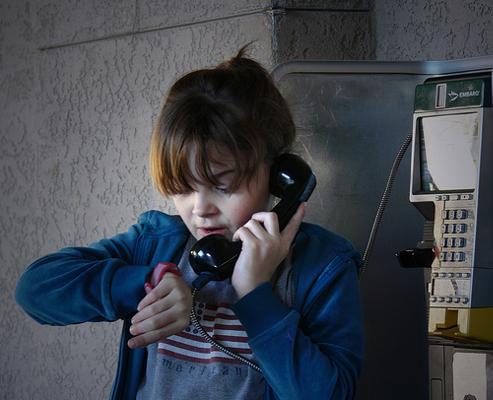person: (17, 63, 375, 400)
